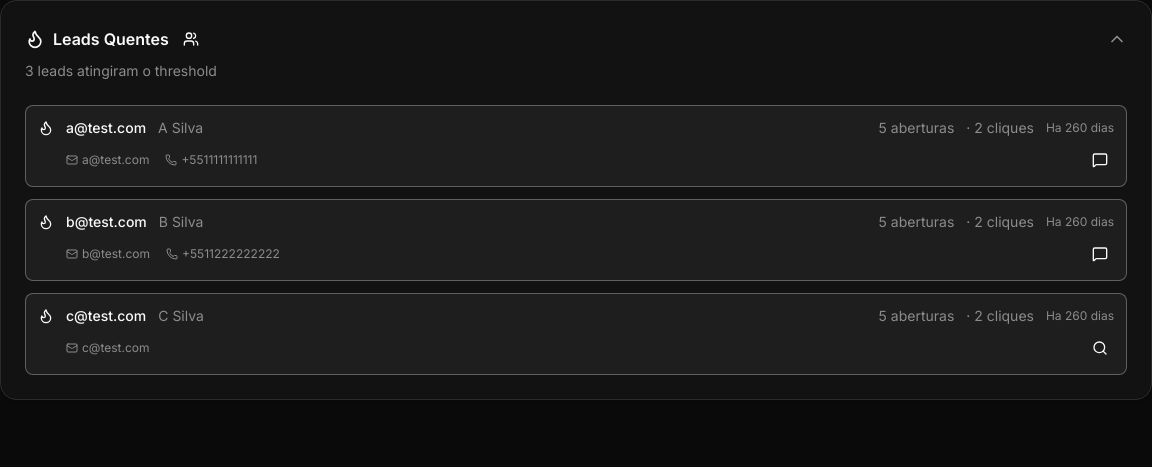
Scenario: OpportunityPanel › Modo de selecao (AC 11.6 #1) › ativa modo de selecao ao clicar no botao
Click the button with test id "bulk-send-mode-button" at (191, 39), box [177,25,205,53]
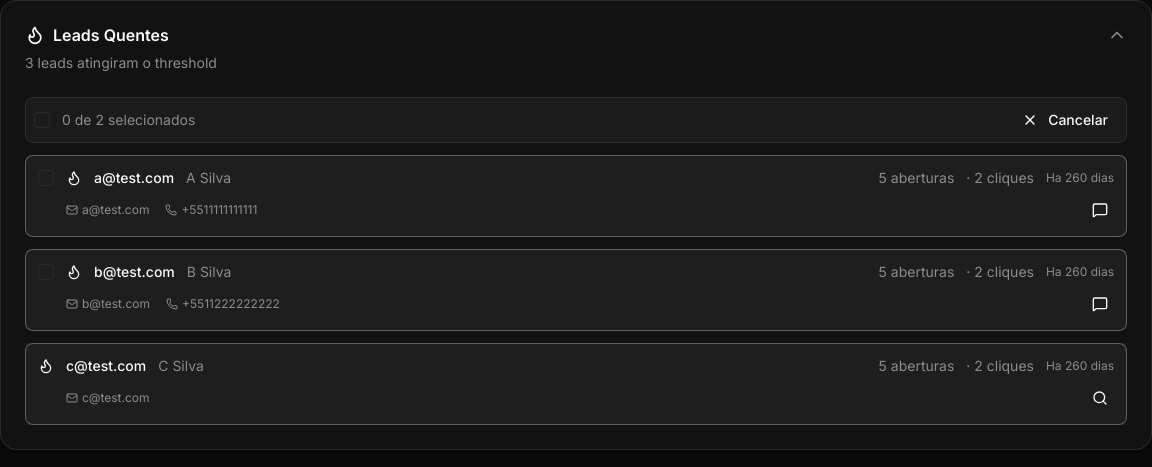
Expected: the element with test id "selection-mode-header" is shown, [25,97,1127,143]
Expected: the text with test id "selection-counter" reads "0 de 2 selecionados", [62,110,195,130]
